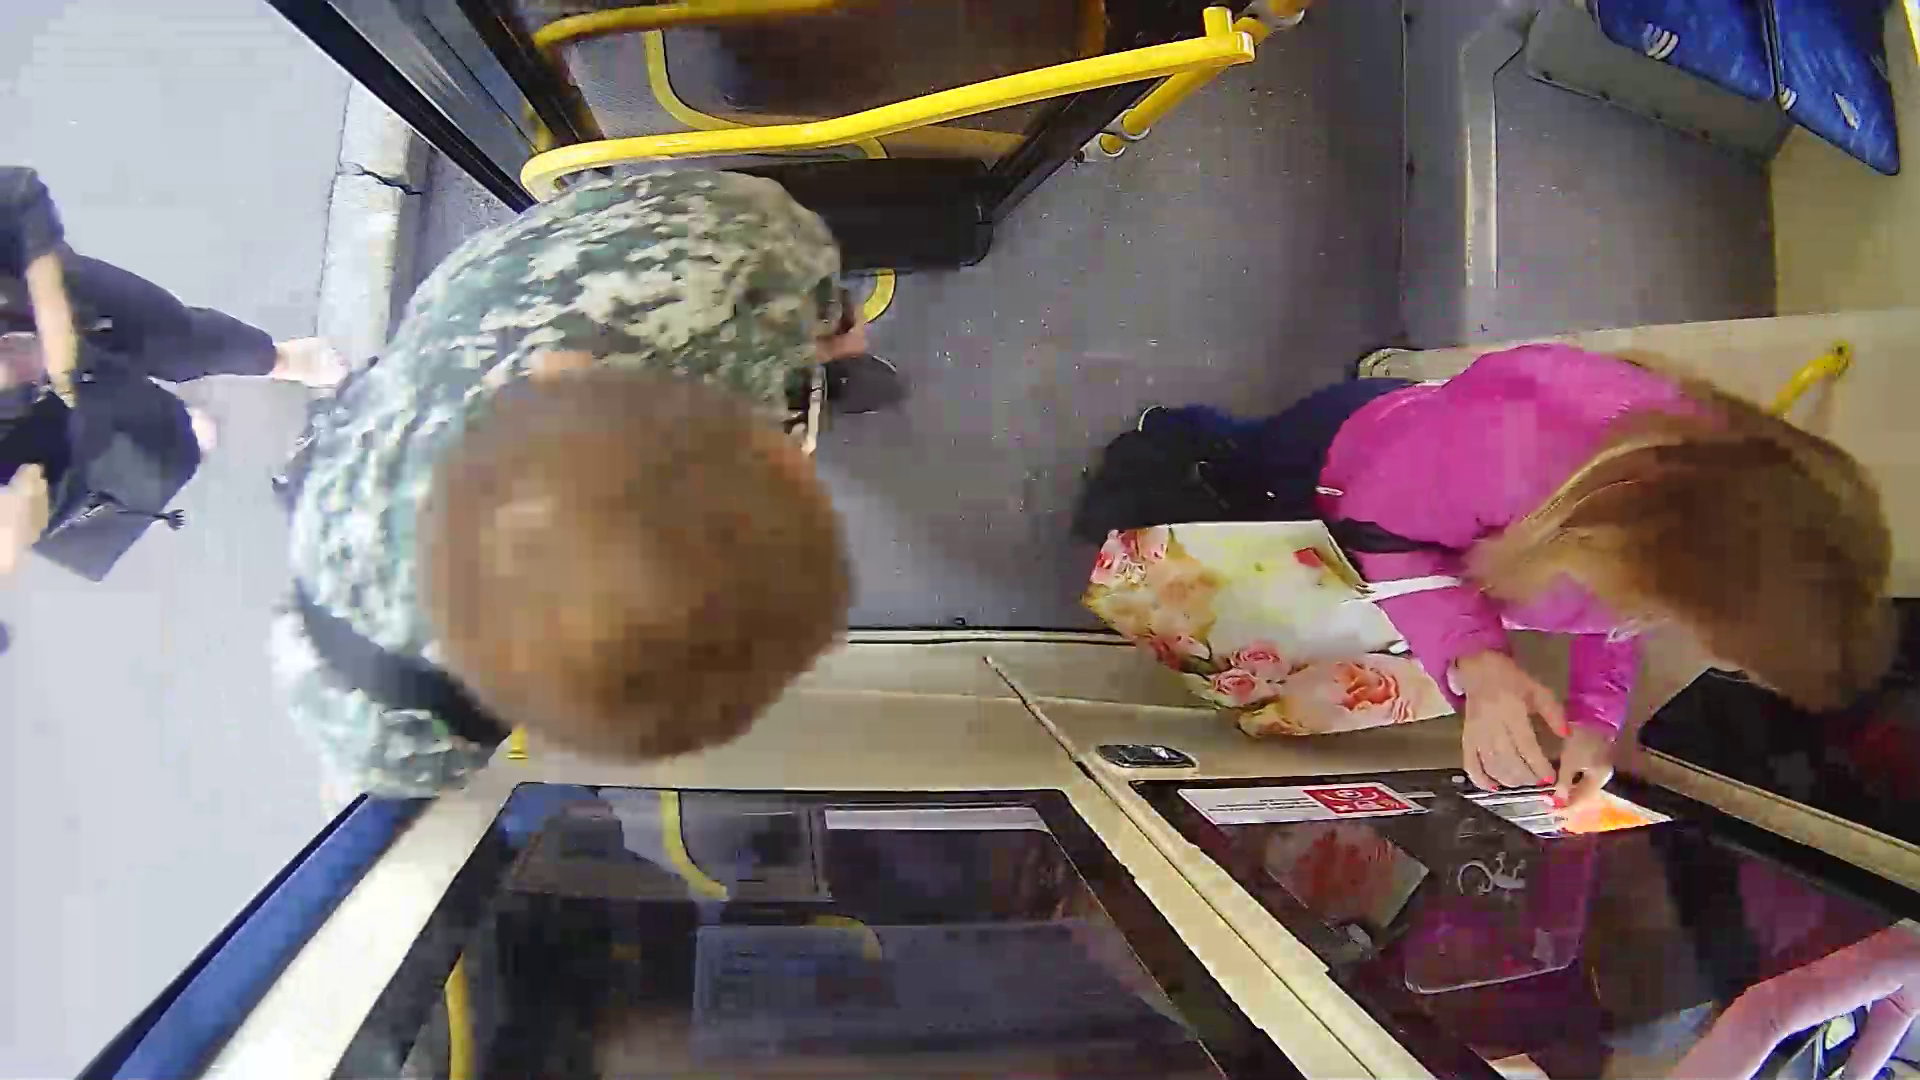person: (1184, 286, 1900, 795), (291, 214, 932, 755)
